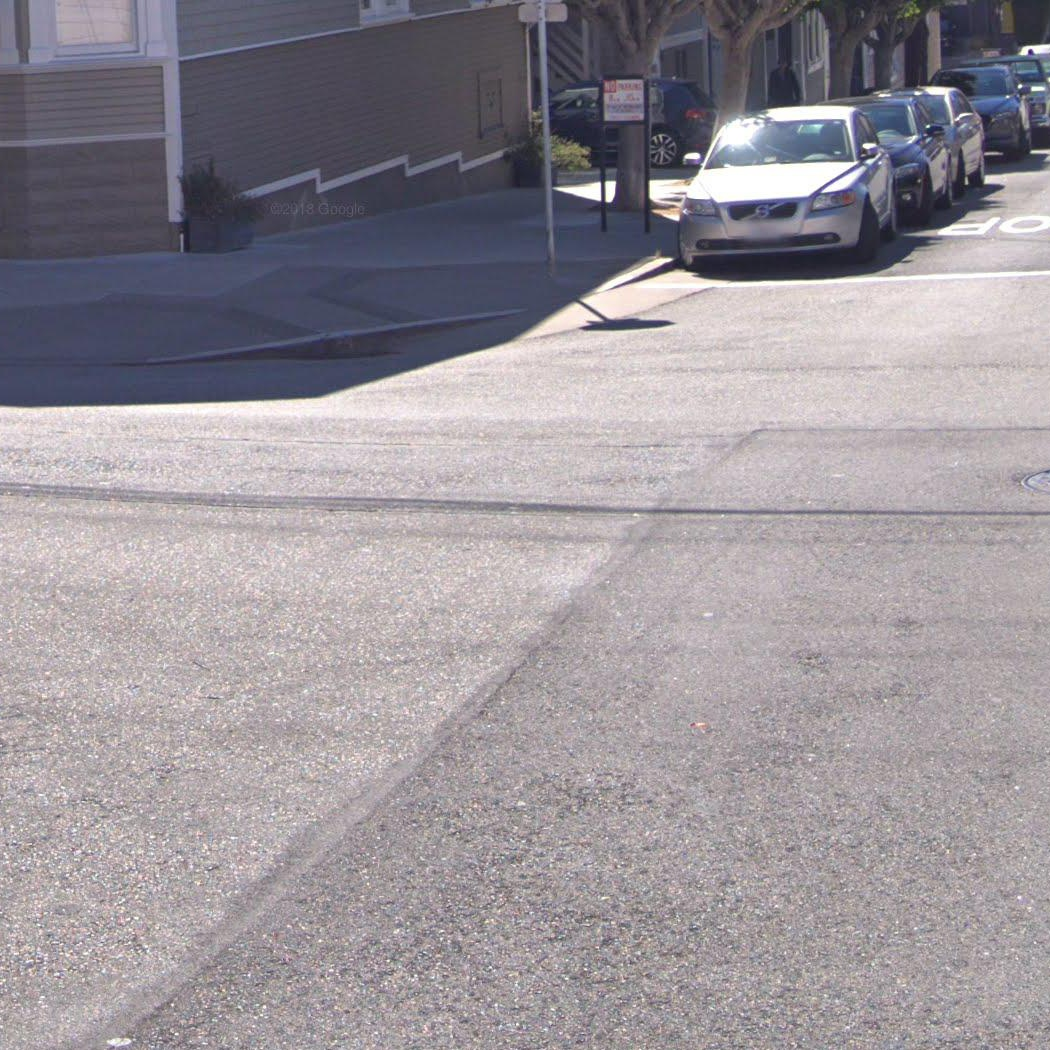No Parking: (601, 77, 646, 122)
